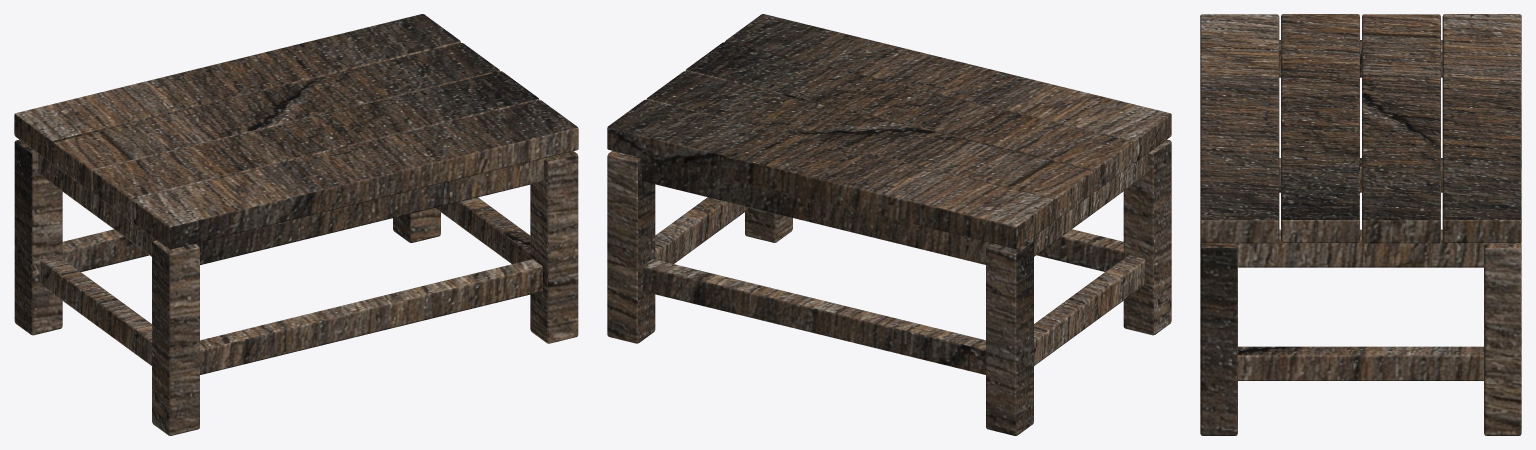
File: tavern-table-small-v01.glb
3 renders of one model, left to right at view 1: azimuth 30°, elevation 25°; view 2: azimuth 150°, elevation 25°; view 3: azimuth 270°, elevation 25°, orthographic. The views are drawn at different scales.
Visible parts, largest first — view 1: table-small-v01; view 2: table-small-v01; view 3: table-small-v01.
Boxes of the visible parts, x1=… form: table-small-v01: x1=14, y1=14, x2=578, y2=435; table-small-v01: x1=607, y1=14, x2=1171, y2=435; table-small-v01: x1=1200, y1=14, x2=1521, y2=435.
Size of the model in its own units: 1.55 by 0.761 by 1.02.
3 materials, 3 textured.
